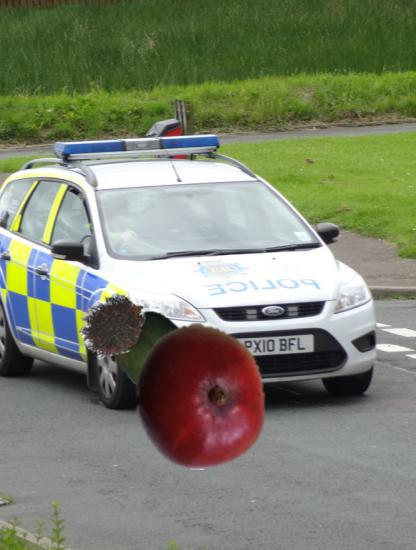Mango: (127, 323, 274, 470), (114, 309, 203, 398)
Rambutan: (80, 291, 148, 359)
